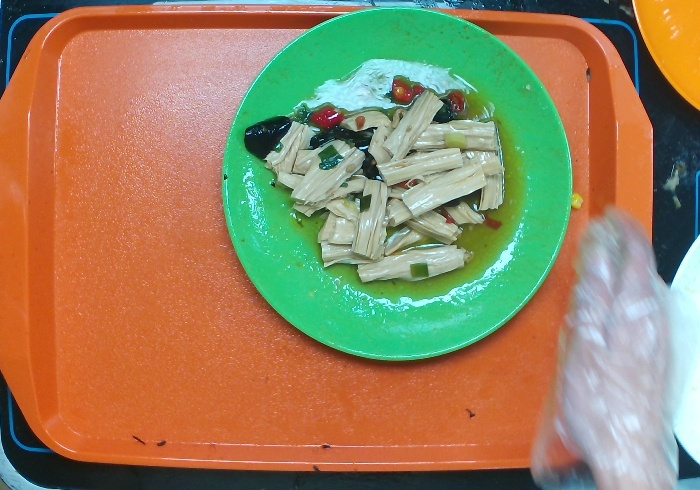HZYJPL-Lv_Se_Yuan_Pan: (222, 5, 574, 365)
